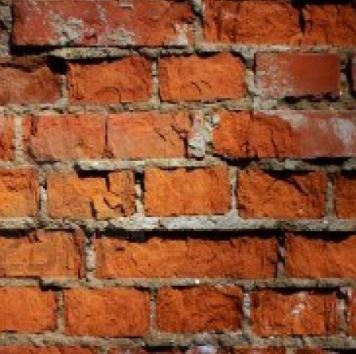brick: (10, 1, 198, 47), (98, 230, 277, 275), (26, 114, 185, 161), (215, 112, 356, 159), (204, 1, 356, 44), (141, 164, 231, 217), (49, 166, 135, 218), (155, 284, 243, 333), (159, 55, 248, 103), (256, 52, 341, 102), (249, 288, 339, 335), (1, 230, 89, 277), (238, 169, 325, 216), (66, 288, 151, 336), (281, 232, 356, 280), (72, 56, 151, 101), (1, 57, 66, 100), (1, 284, 57, 332), (1, 170, 40, 218)
